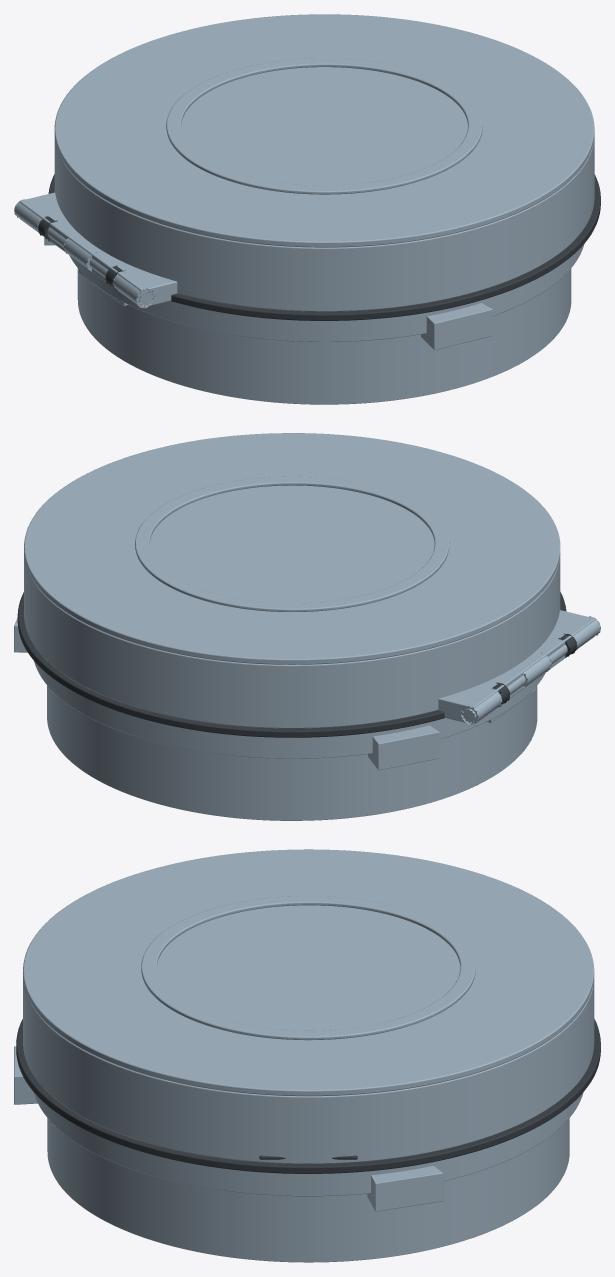
The model's file is motor-assembly.glb.
3 renders of one model, top to bottom at view 1: azimuth 30°, elevation 25°; view 2: azimuth 150°, elevation 25°; view 3: azimuth 270°, elevation 25°, orthographic. The views are drawn at different scales.
Parts seen in each view (by area): view 1: flipping_lid_visual, housing_body_visual; view 2: flipping_lid_visual, housing_body_visual; view 3: flipping_lid_visual, housing_body_visual.
Part boxes in pixels (x1,y1,x2,y2): flipping_lid_visual: [14, 14, 600, 320]; housing_body_visual: [44, 237, 584, 404]; flipping_lid_visual: [17, 433, 600, 737]; housing_body_visual: [14, 618, 545, 820]; flipping_lid_visual: [16, 849, 600, 1173]; housing_body_visual: [14, 1046, 583, 1262].
Size of the model in its own units: 5.36 by 1.84 by 5.26.
